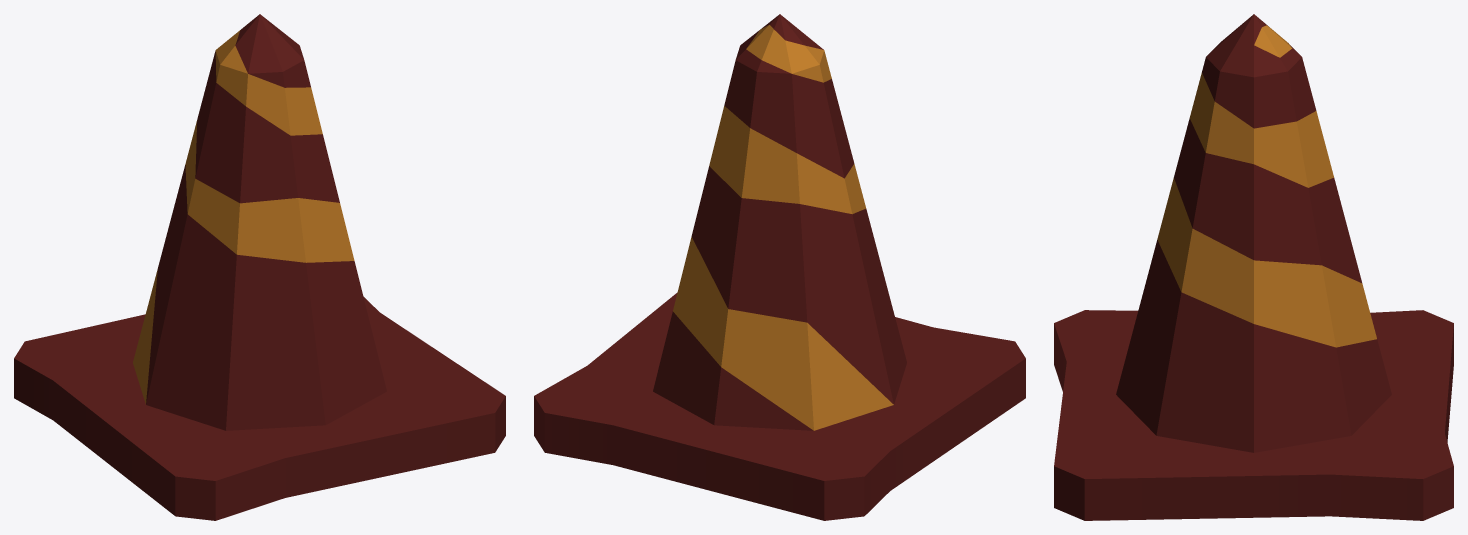
File: Rubber_Cone_01.FBX
3 views of the same model, side by side, from view 1: azimuth 30°, elevation 25°; view 2: azimuth 150°, elevation 25°; view 3: azimuth 270°, elevation 25° (orthographic). The views are drawn at different scales.
Parts seen in each view (by area): view 1: Rubber_Cone_01; view 2: Rubber_Cone_01; view 3: Rubber_Cone_01.
Boxes of the visible parts, box(x1,y1,x2,y2) form: Rubber_Cone_01: box(14, 14, 505, 520); Rubber_Cone_01: box(534, 14, 1025, 520); Rubber_Cone_01: box(1054, 14, 1453, 520).
Size of the model in its own units: 1.3 by 1.52 by 1.3.
